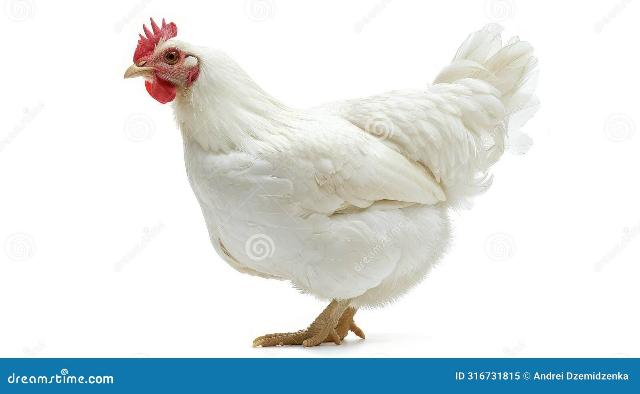Chicken: (122, 16, 539, 344)
